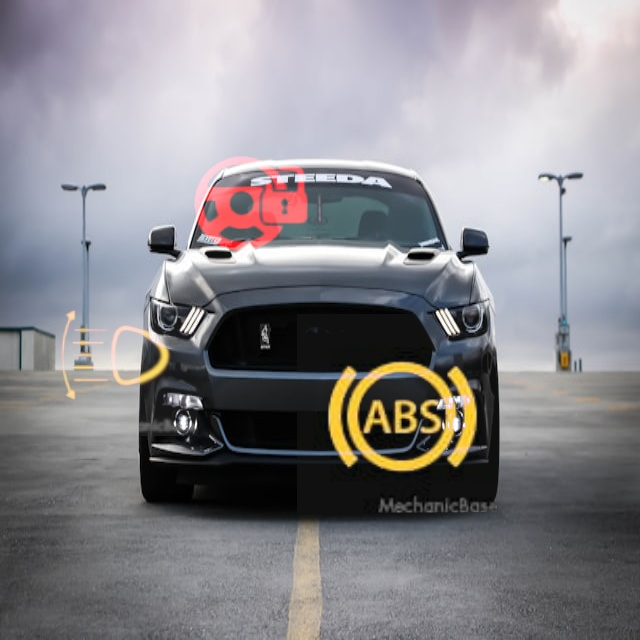symbol: (297, 314, 506, 523), (33, 271, 198, 436), (176, 129, 327, 280)
